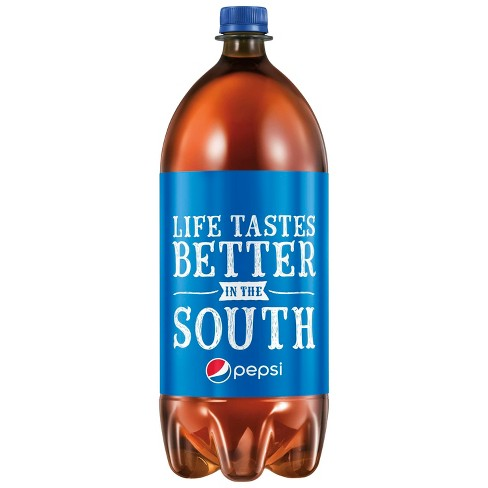pepsi: (204, 355, 232, 382)
